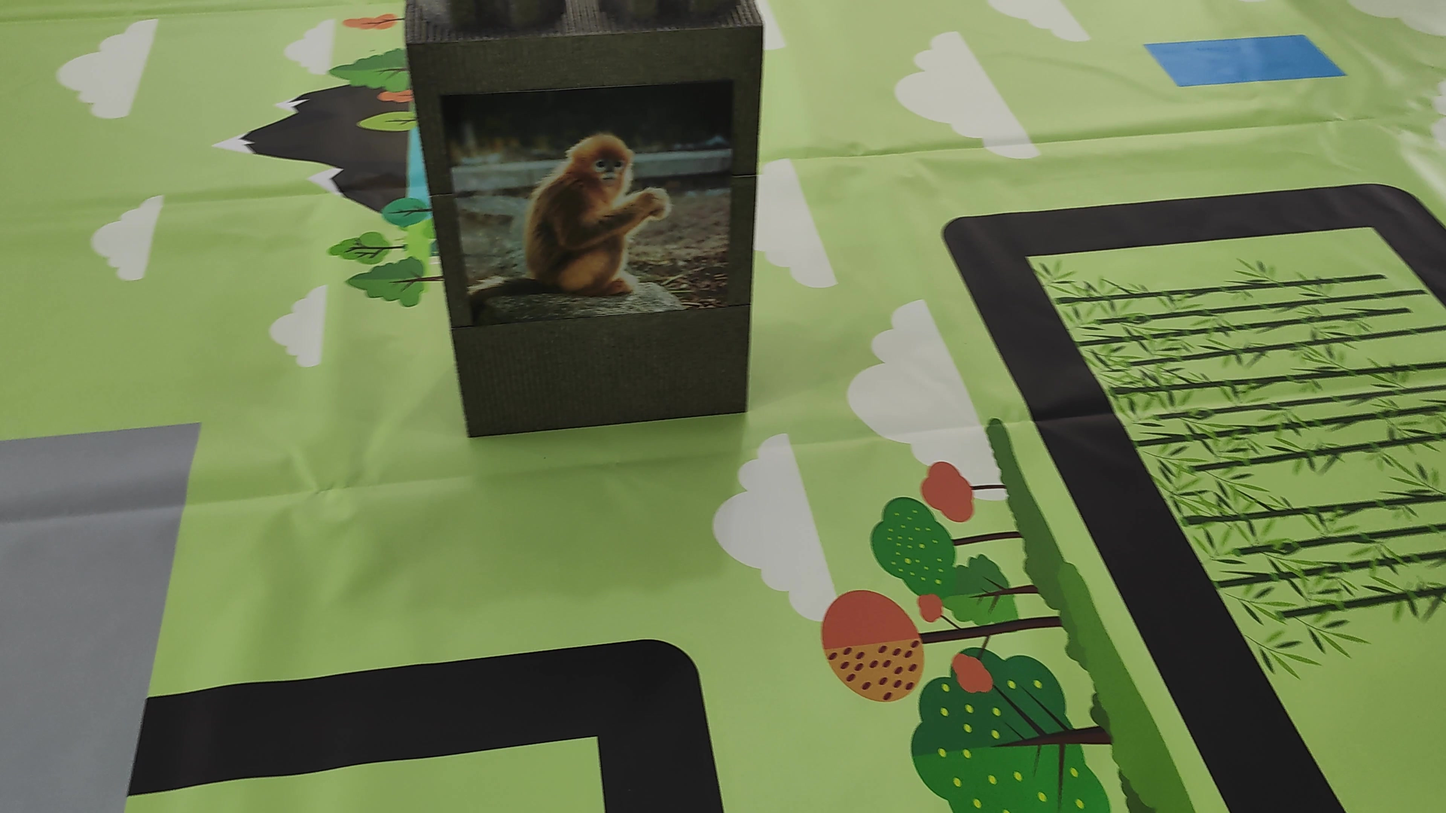monkey: (487, 105, 711, 309)
